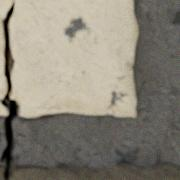broken_brick: (0, 0, 137, 116), (0, 162, 179, 179)
crack: (0, 1, 18, 177)
